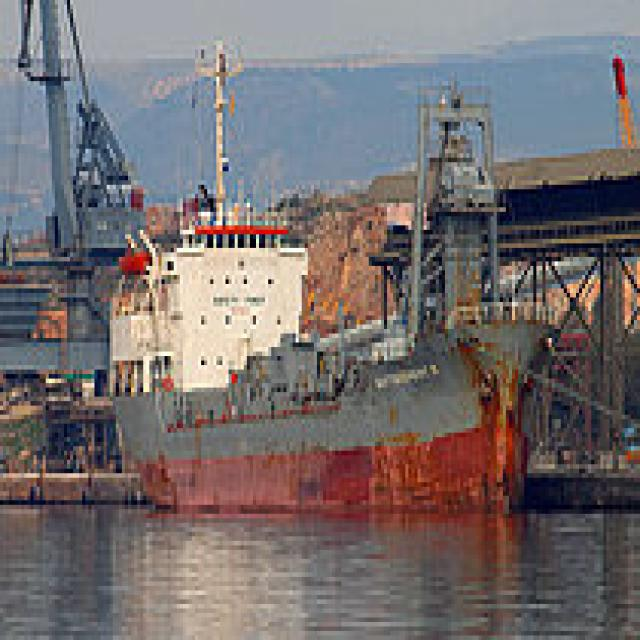Cargo: (107, 31, 558, 518)
